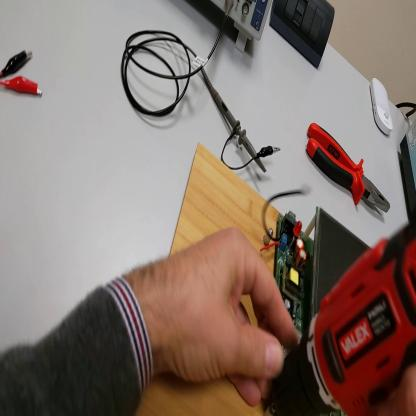electric screwdriver: (273, 223, 416, 415)
hand: (157, 225, 301, 401), (375, 373, 416, 414)
low voltage board: (259, 188, 380, 354)
oscilloscope probe tip: (204, 67, 266, 176)
pliers: (308, 121, 393, 215)
socket: (4, 77, 42, 98)
welder station: (402, 118, 416, 223)
working area: (143, 146, 303, 416)
